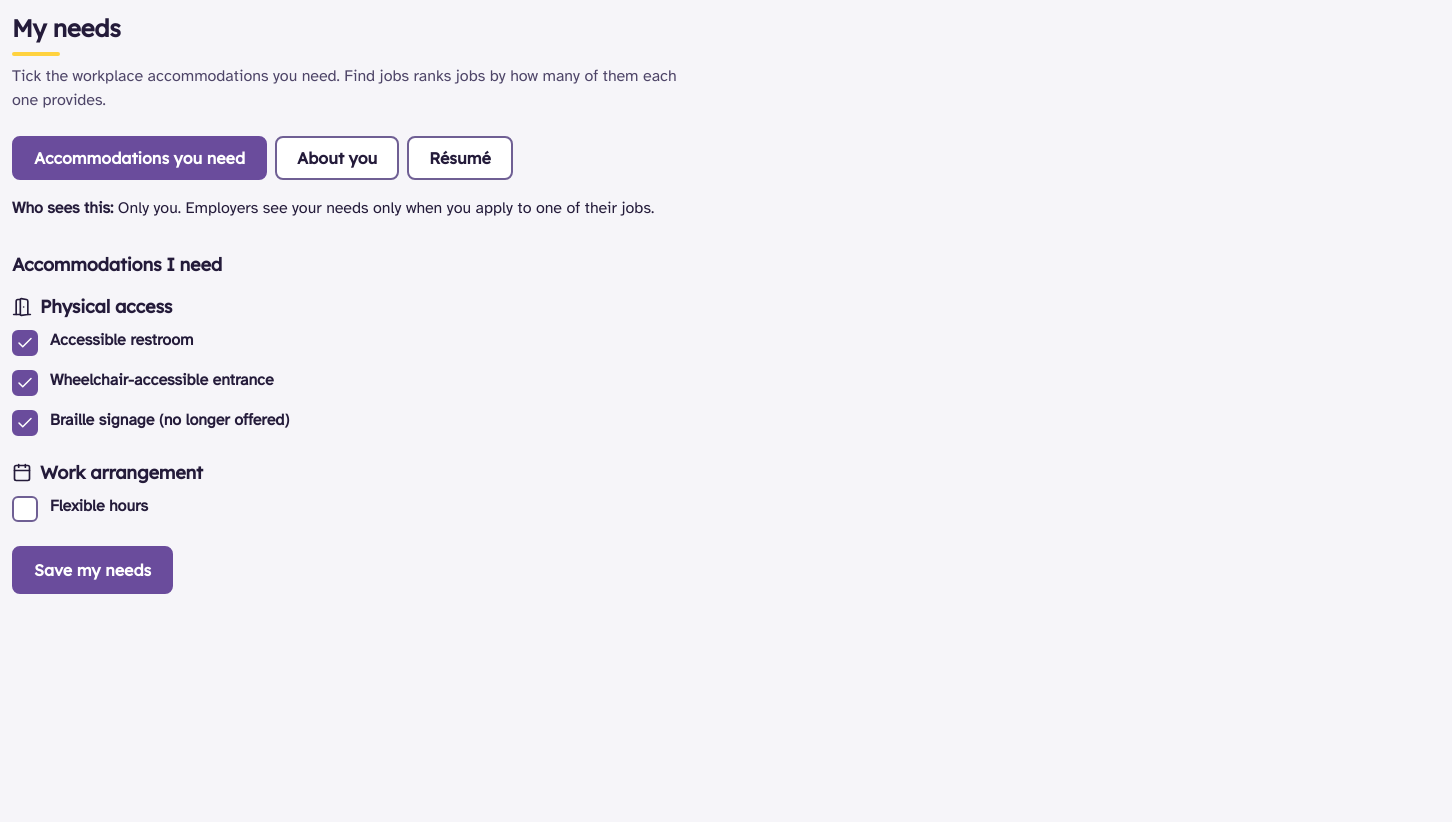
NeedsPage › saves the ticked needs and says so
Click the checkbox labelled "Flexible hours" at (25, 509), box [12,496,38,522]
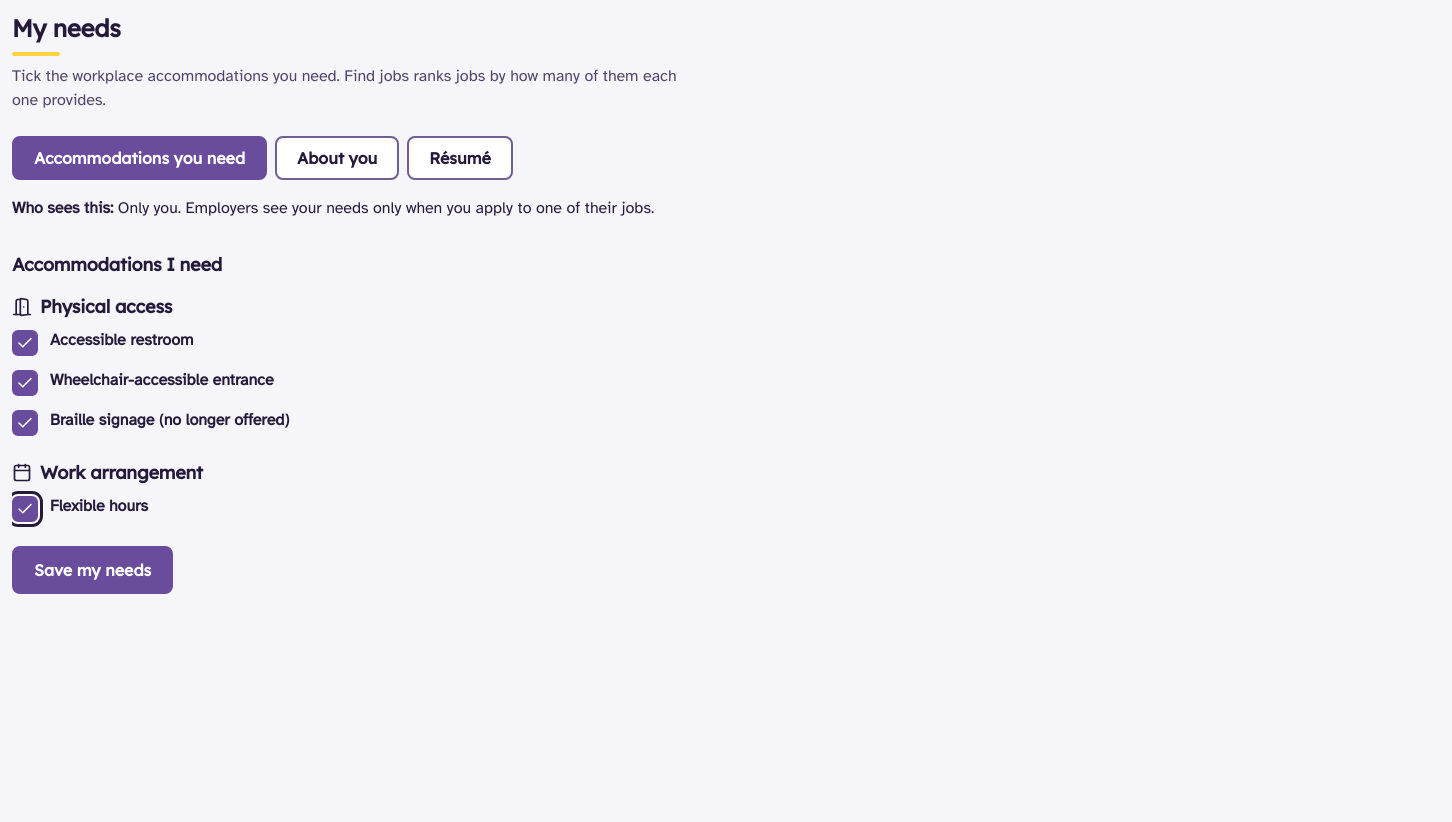
Click the checkbox labelled "Braille signage (no longer offered)" at (25, 423), box [12,410,38,436]
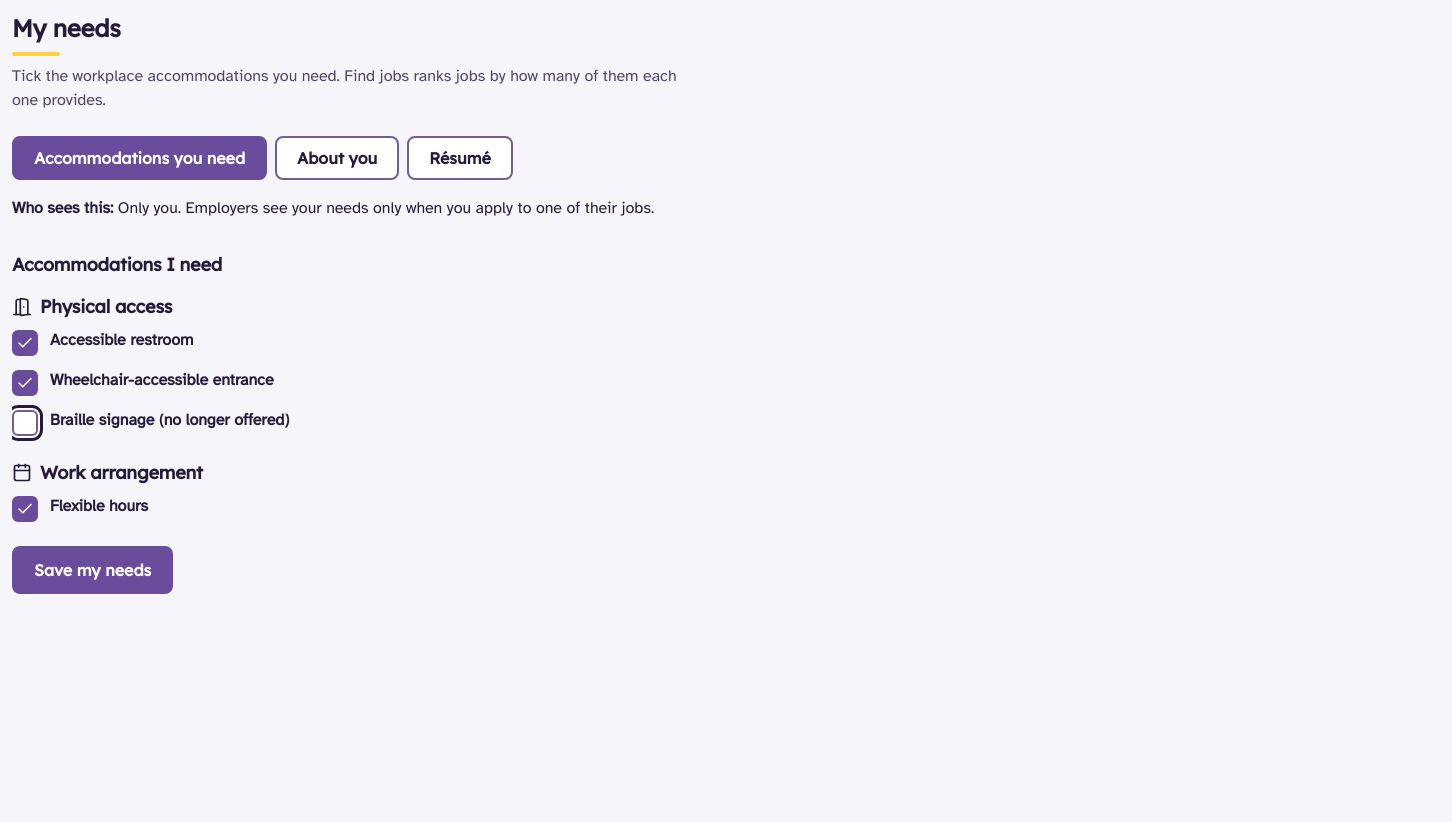
Click the button "Save my needs" at (93, 570), box [12,546,173,594]
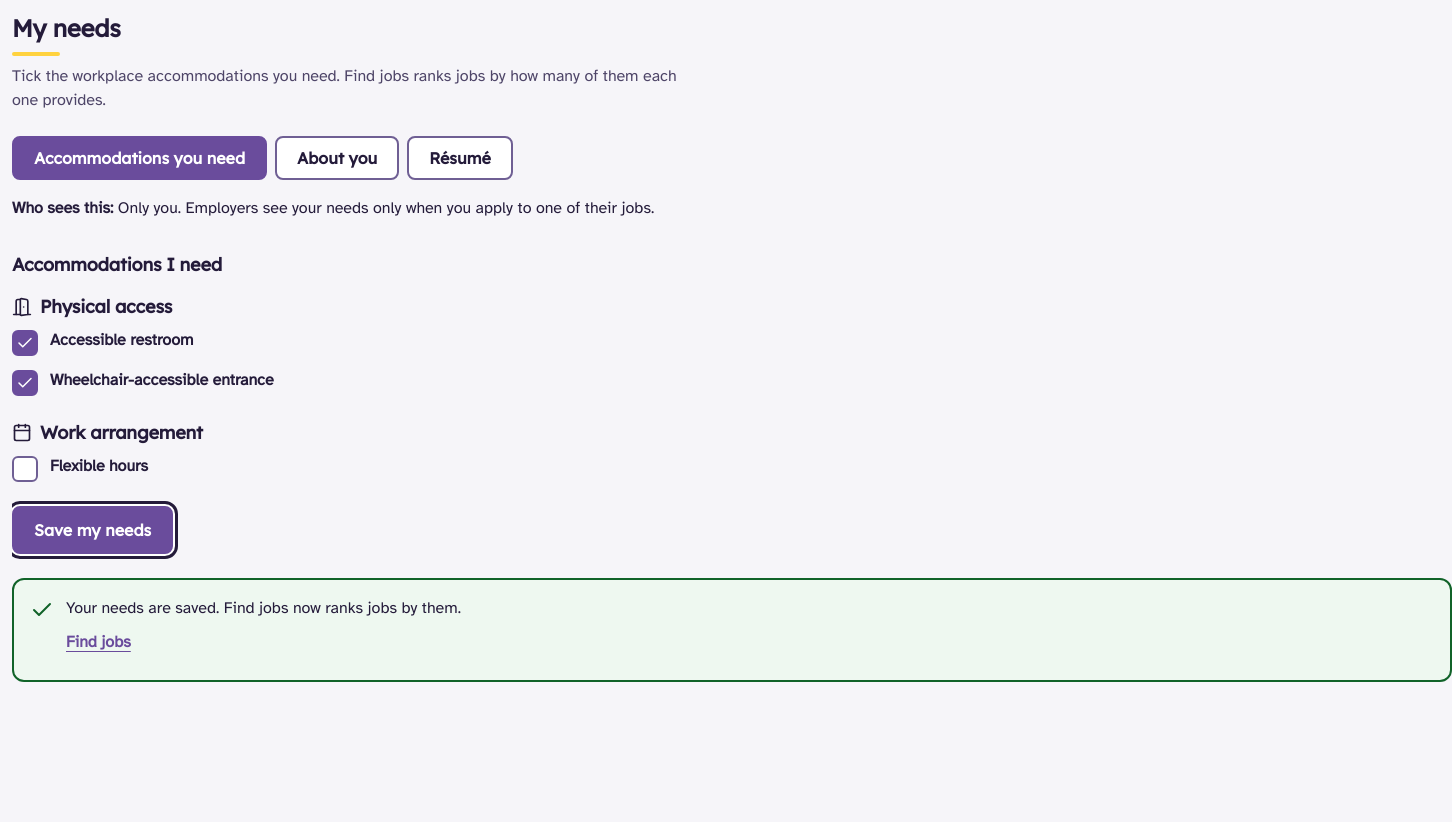
Expected: the text "Your needs are saved. Find jobs now ranks jobs by them." is shown, [66,596,461,620]
Expected: the label "Braille signage" is gone
